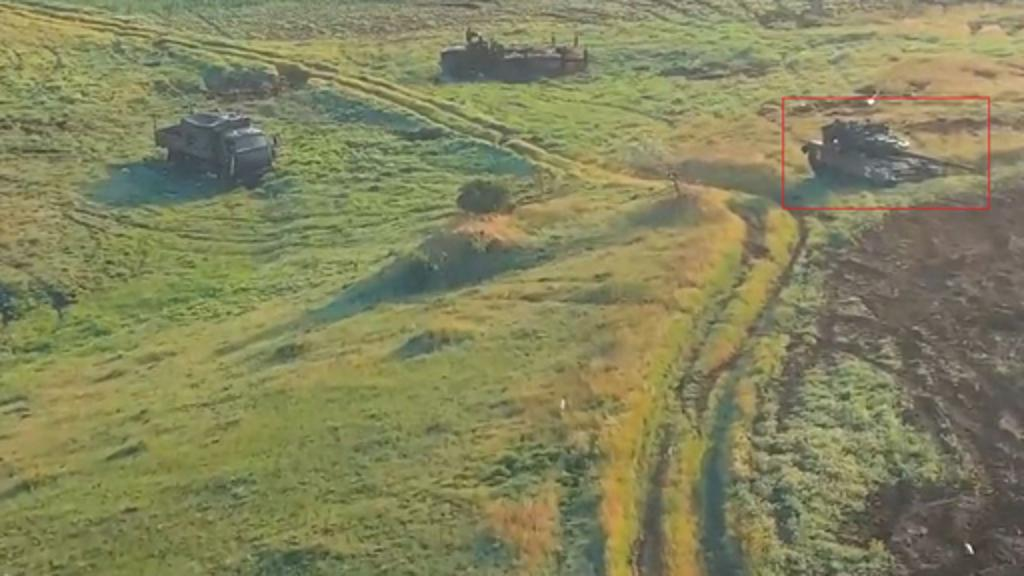TANK: (798, 114, 980, 196)
TRUCK: (148, 96, 276, 190), (436, 26, 598, 86)
